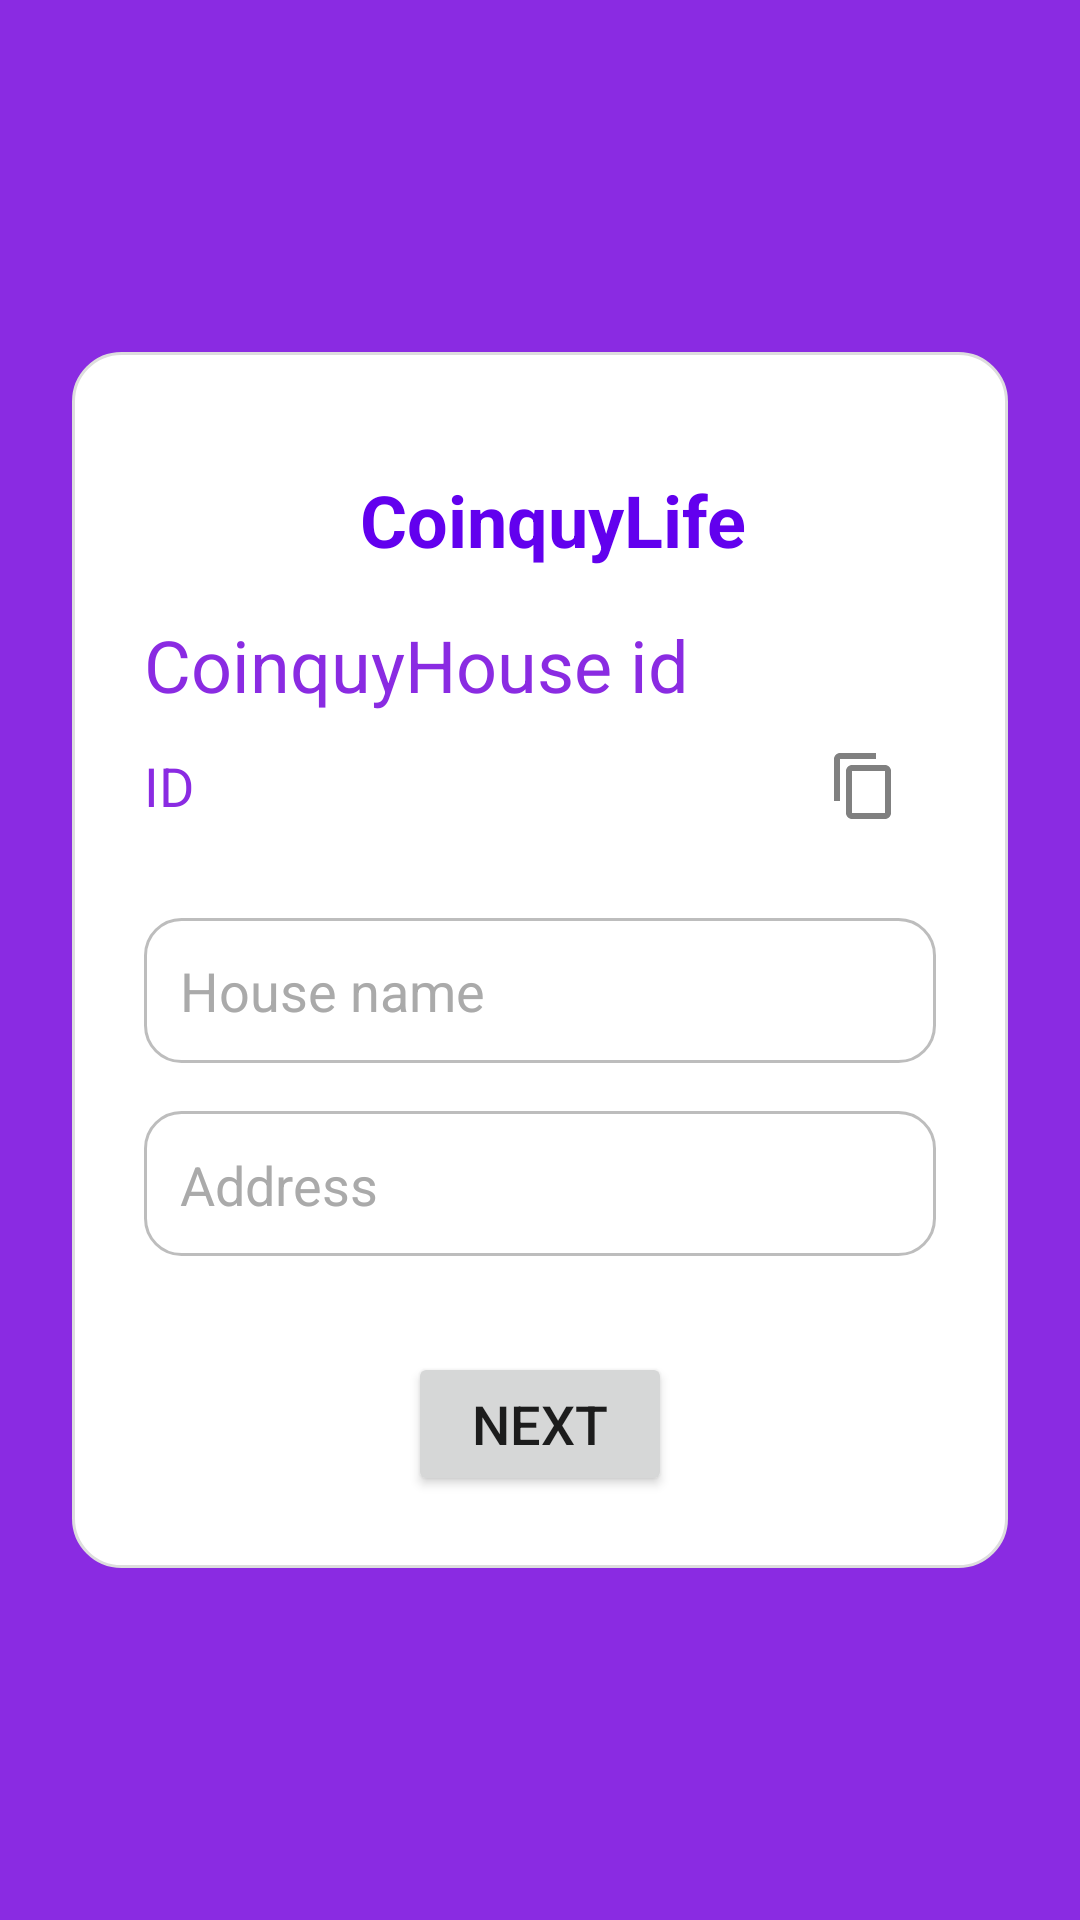

Screen size 1080*1920. Icon name, then its center in pixels as [x,y]:
string copy: [862,786]
